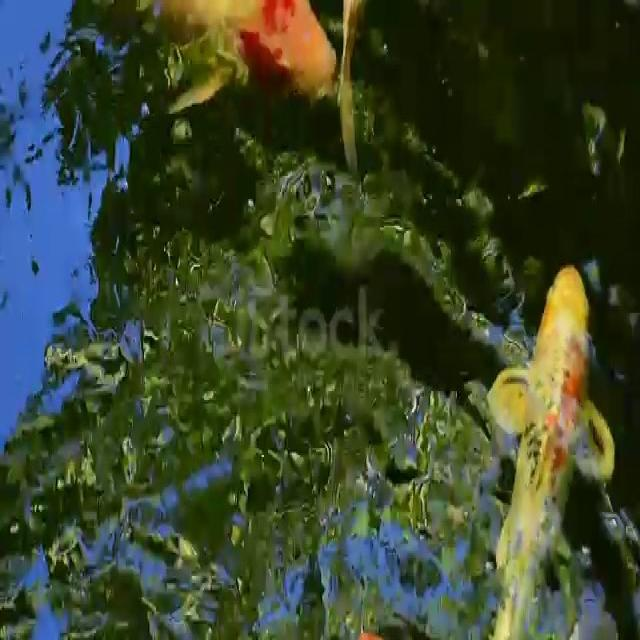fish: (491, 246, 613, 640), (153, 0, 346, 120)
